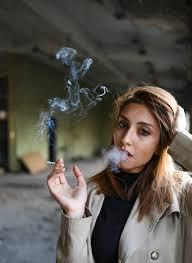smoker: (28, 78, 192, 237)
